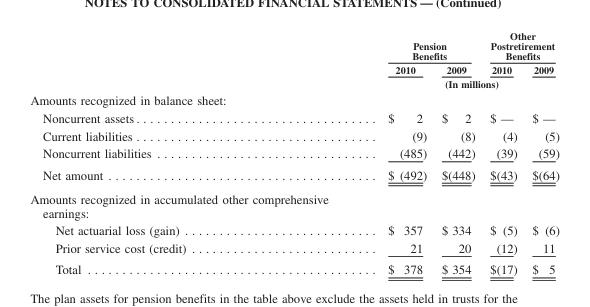table: (29, 29, 558, 276)
table column: (29, 29, 286, 276), (286, 29, 433, 276), (433, 29, 482, 276), (482, 29, 524, 276), (524, 29, 558, 276)
table column header: (29, 29, 558, 90)
table projected row header: (29, 186, 558, 221), (29, 90, 558, 108)
table row: (29, 186, 558, 221), (29, 29, 558, 62), (29, 163, 558, 186), (29, 238, 558, 258), (29, 144, 558, 163), (29, 90, 558, 108), (29, 108, 558, 126), (29, 126, 558, 144), (29, 258, 558, 276), (29, 221, 558, 238), (29, 62, 558, 76), (29, 76, 558, 90)
table spanning cell: (286, 29, 482, 62), (286, 76, 558, 90), (482, 29, 558, 62)
